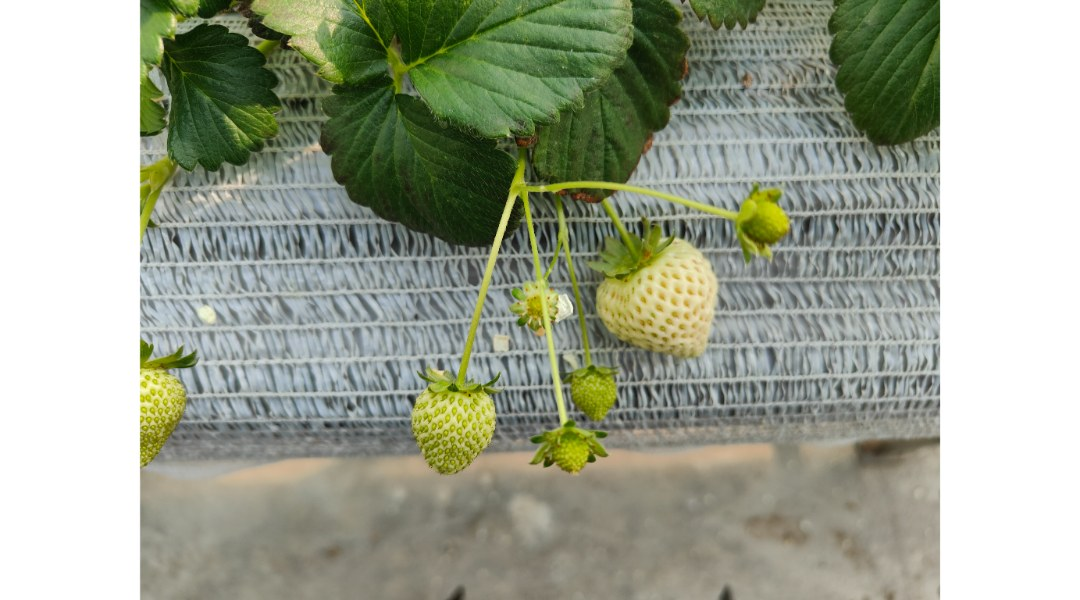berry: (591, 224, 734, 370), (97, 337, 194, 485), (408, 359, 498, 481), (520, 410, 619, 480), (716, 190, 805, 266), (566, 355, 622, 420)
strain: (524, 207, 566, 425), (535, 172, 734, 214), (459, 205, 505, 378), (598, 200, 647, 261)
